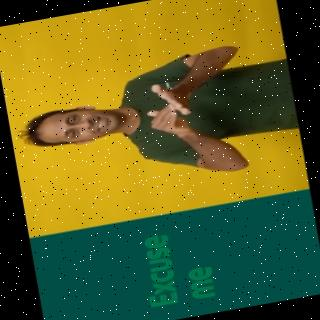ExcuseMe: (10, 35, 303, 206)
